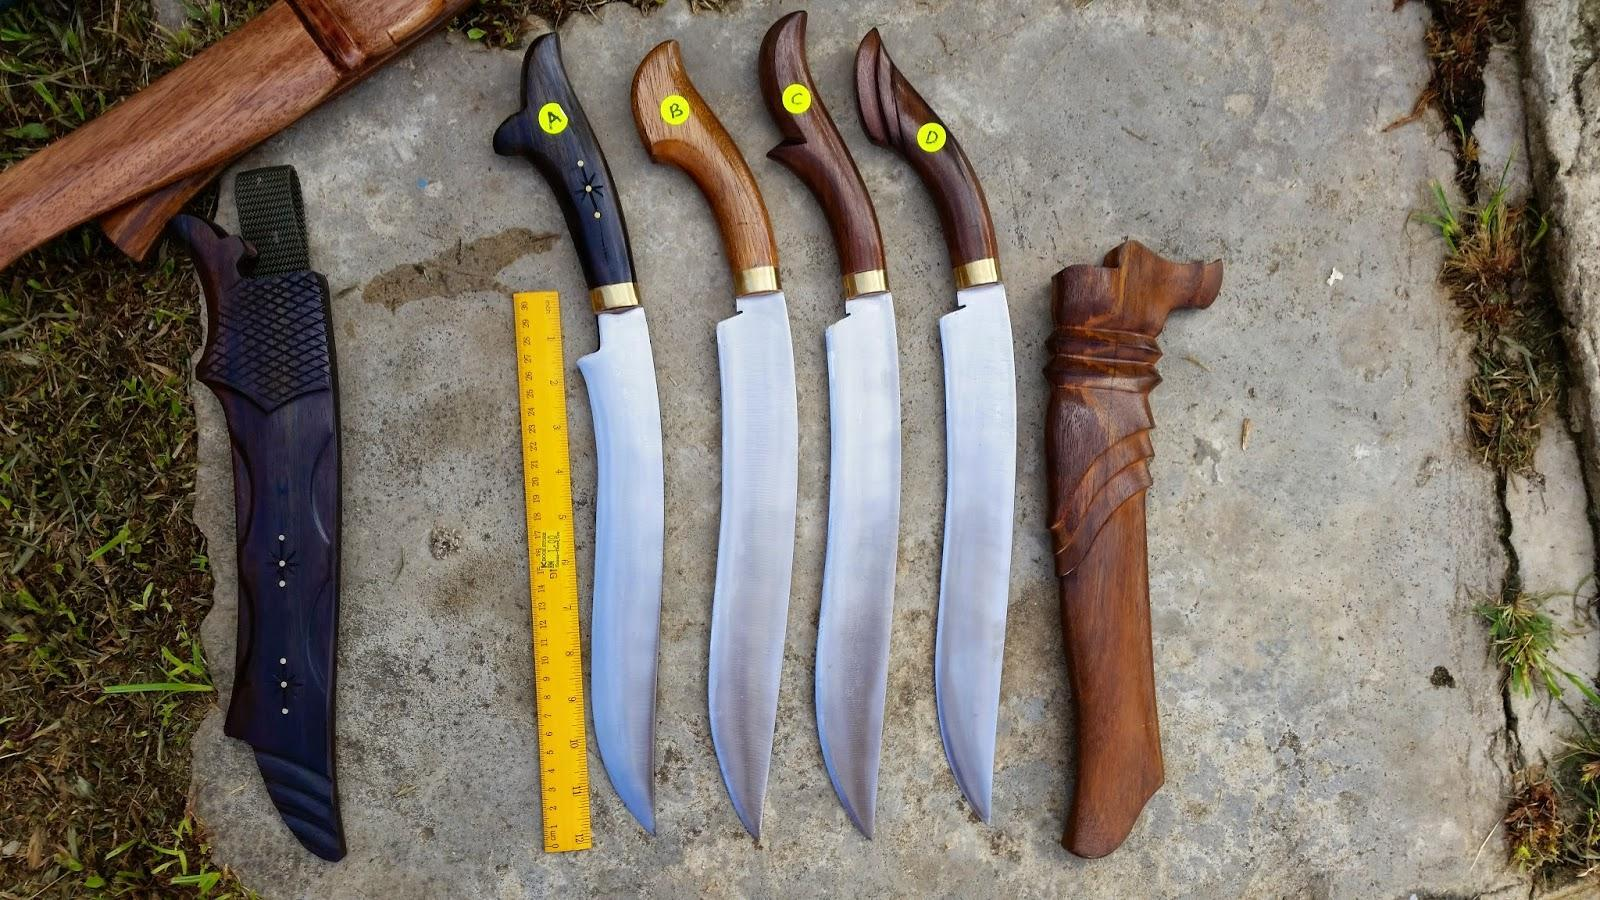facao: (626, 35, 803, 848), (501, 37, 671, 853), (846, 16, 1016, 816), (752, 14, 905, 840)
